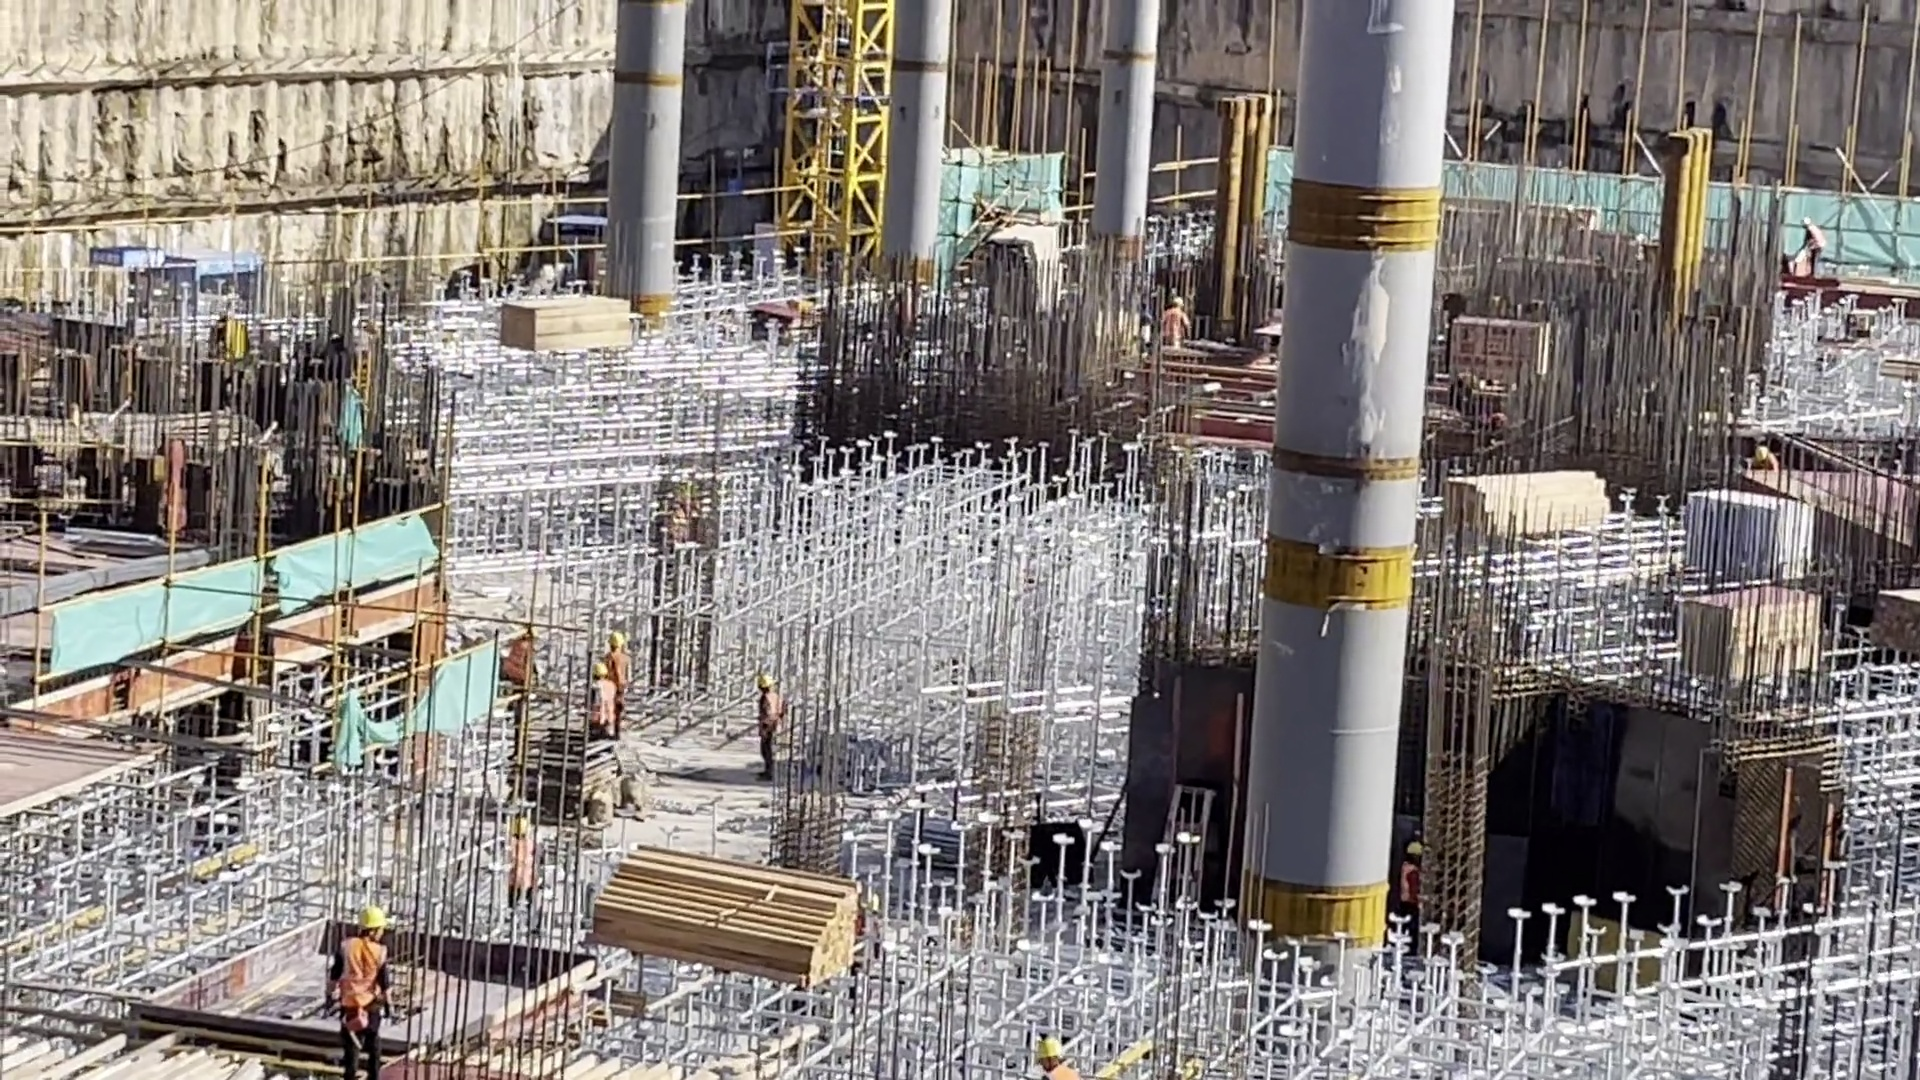board: (1679, 582, 1825, 676)
helmet: (358, 908, 389, 929), (1037, 1039, 1062, 1059), (607, 632, 628, 644), (592, 661, 610, 674), (758, 674, 775, 685), (1407, 842, 1421, 854), (1802, 215, 1812, 226)
person: (316, 900, 395, 1080), (754, 672, 783, 781), (600, 631, 632, 731), (1034, 1032, 1085, 1080), (494, 628, 534, 687), (508, 817, 532, 910), (589, 660, 616, 734), (1401, 837, 1425, 910), (1804, 212, 1826, 280), (1159, 296, 1189, 342), (1749, 445, 1778, 473)
vest: (337, 937, 385, 1013), (758, 694, 781, 746), (593, 680, 616, 726), (1401, 863, 1421, 905), (1044, 1061, 1082, 1080), (1806, 226, 1824, 252)
wood: (593, 852, 856, 990), (1448, 469, 1616, 529), (502, 292, 633, 350), (1871, 586, 1920, 656)
